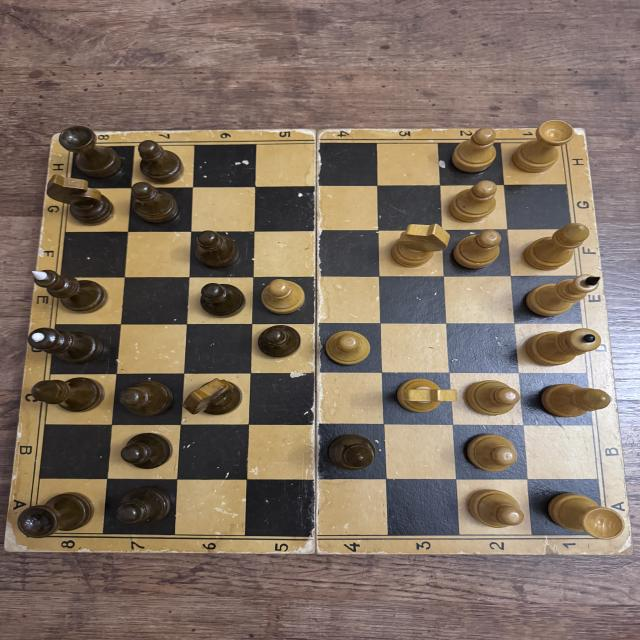black-bishop: (29, 378, 105, 412), (326, 433, 378, 473)
black-king: (28, 268, 109, 314)
black-knight: (45, 173, 114, 226), (182, 376, 243, 418)
black-pawn: (114, 485, 173, 527), (136, 138, 184, 184), (130, 182, 181, 225), (120, 430, 172, 472), (116, 381, 176, 417), (193, 230, 242, 268), (199, 280, 245, 318), (256, 324, 304, 358)
black-queen: (23, 327, 108, 365)
black-rook: (17, 493, 94, 538), (59, 126, 123, 178)
white-bishop: (523, 222, 590, 269), (537, 381, 613, 419)
white-king: (524, 274, 602, 316)
white-knight: (393, 223, 449, 269), (398, 379, 458, 413)
white-pawn: (465, 487, 525, 529), (448, 179, 501, 223), (466, 378, 519, 418), (453, 127, 497, 174), (453, 228, 501, 271), (466, 434, 519, 472), (258, 278, 307, 314), (325, 330, 371, 364)
white-queen: (526, 326, 599, 368)
white-rook: (546, 491, 624, 539), (512, 121, 574, 174)
